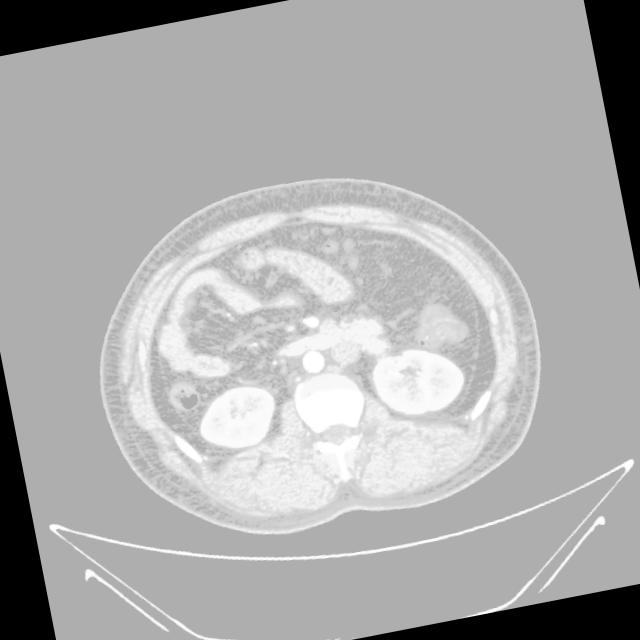NORMAL: (65, 134, 580, 578)
